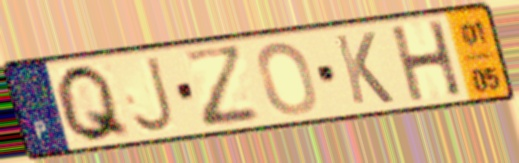H: (386, 17, 466, 105)
J: (130, 53, 179, 136)
K: (330, 29, 398, 107)
O: (254, 39, 320, 118)
Q: (53, 62, 136, 146)
Z: (178, 42, 266, 132)
